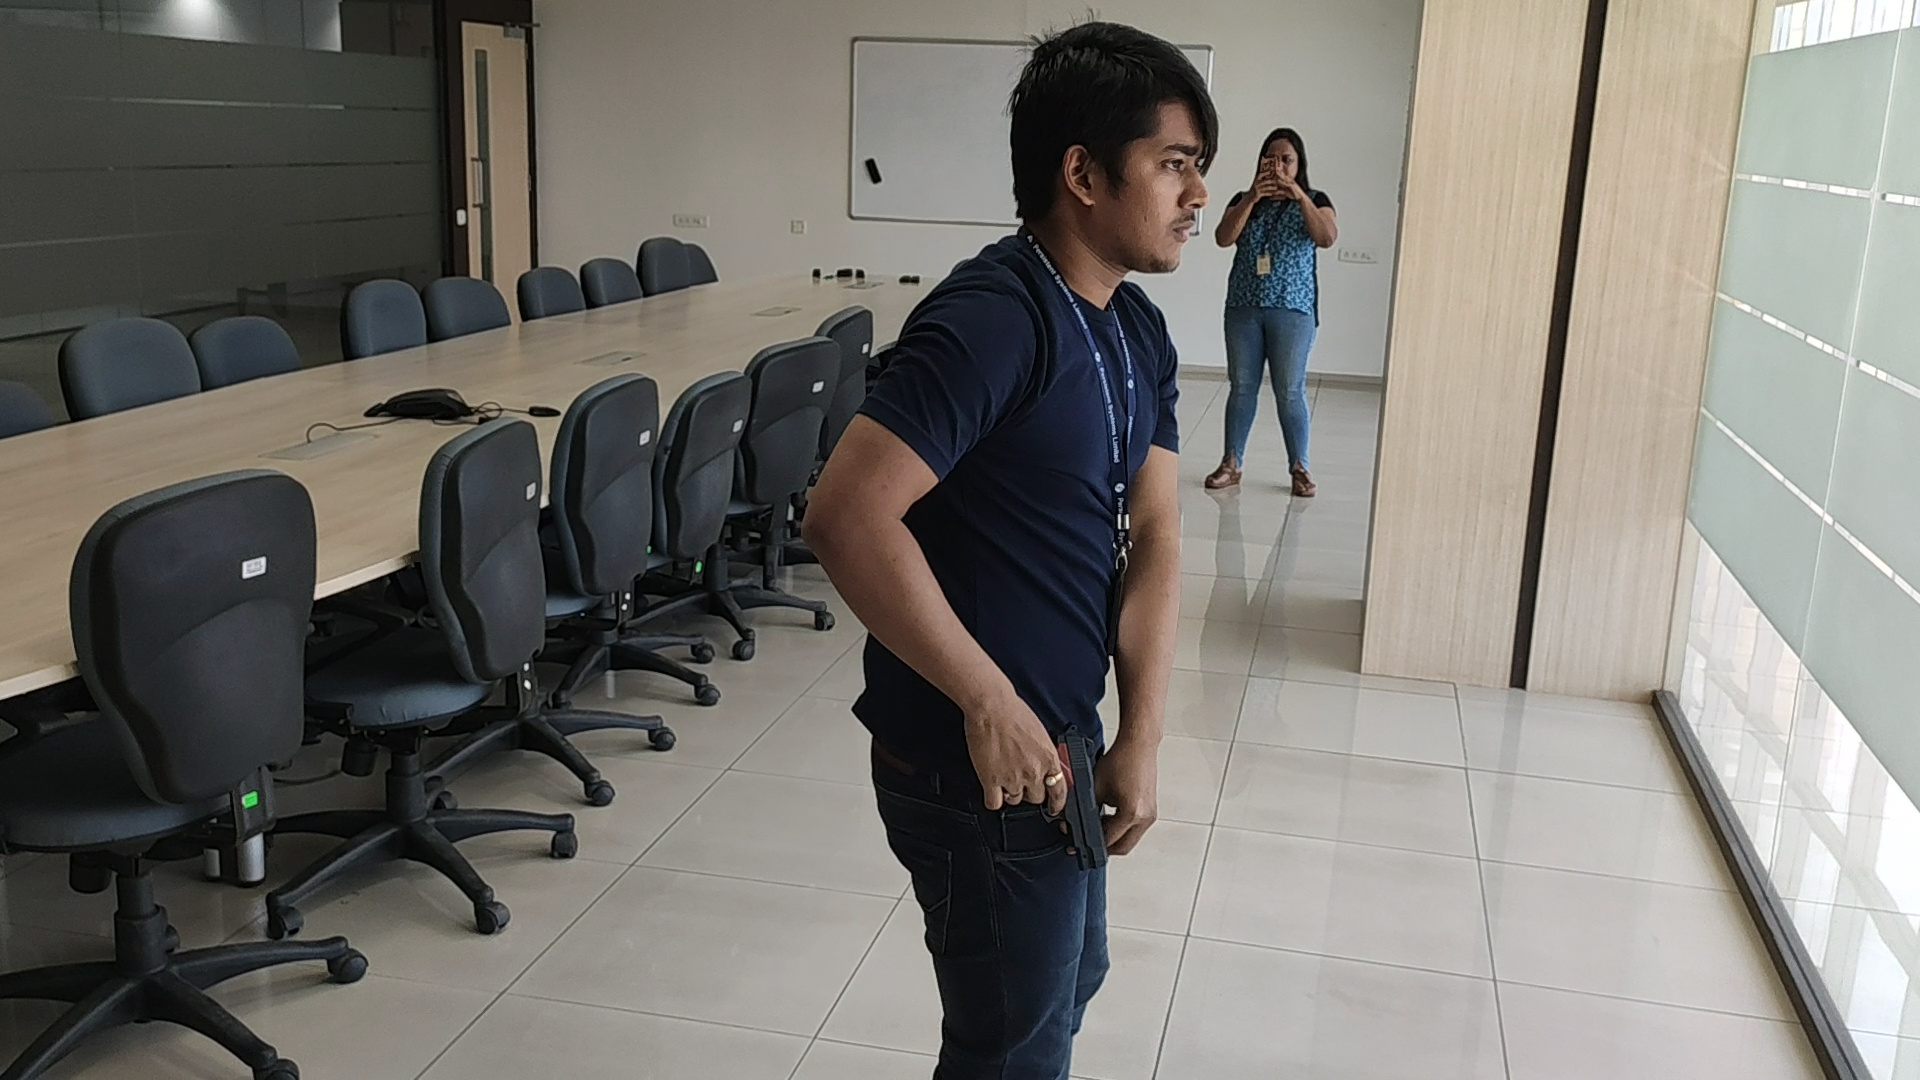gun: (1059, 729, 1108, 874)
